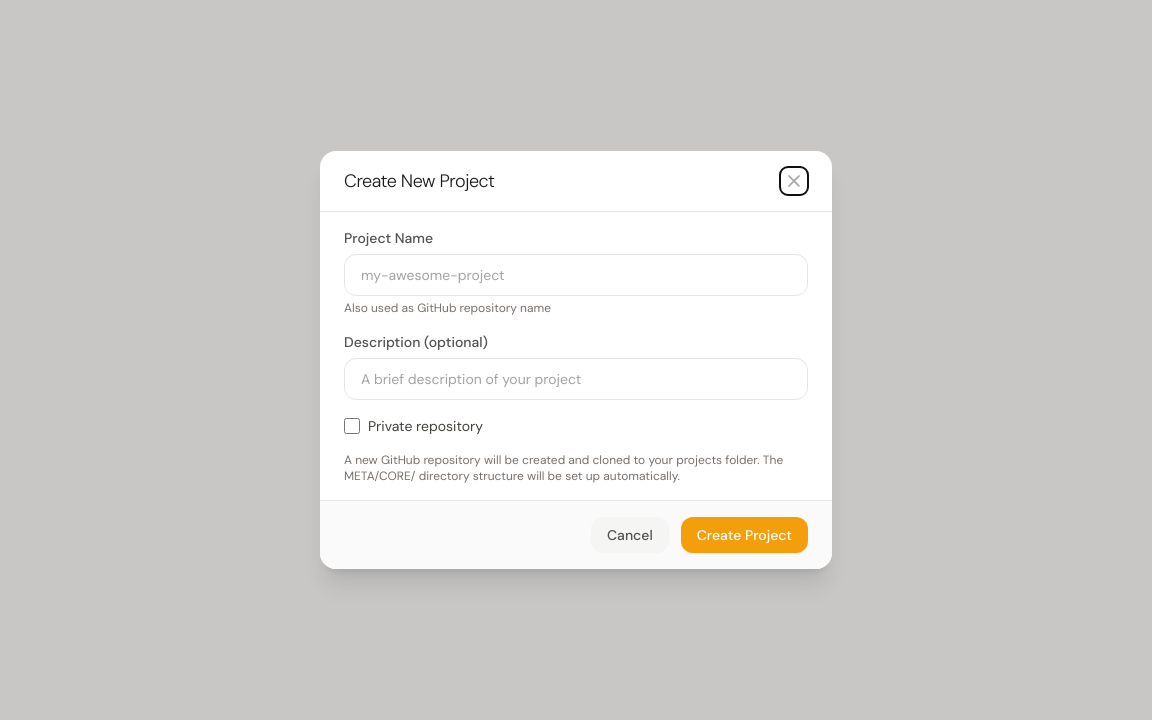
Test case: CreateProjectModal › should show error for invalid project name
Type "-invalid-name" into the field with placeholder "my-awesome-project".
click(576, 275); type("-invalid-name")  # box [344, 254, 808, 296]
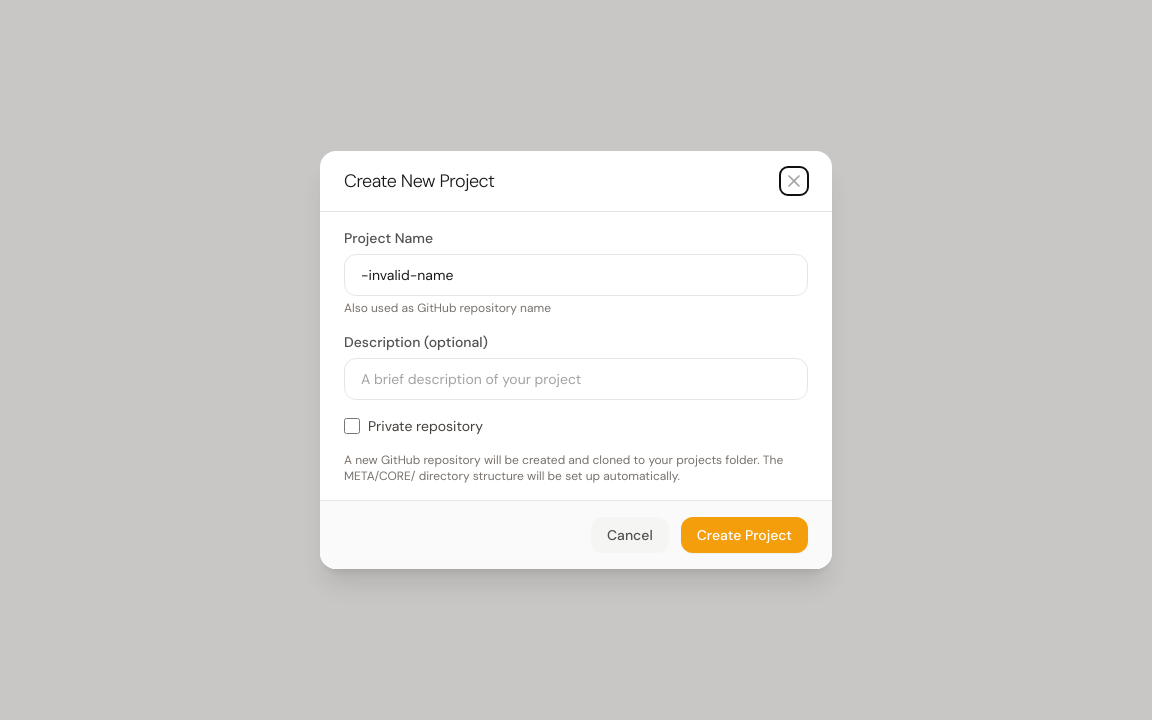
Click the button "Create Project".
click(744, 535)  # box [681, 517, 808, 553]
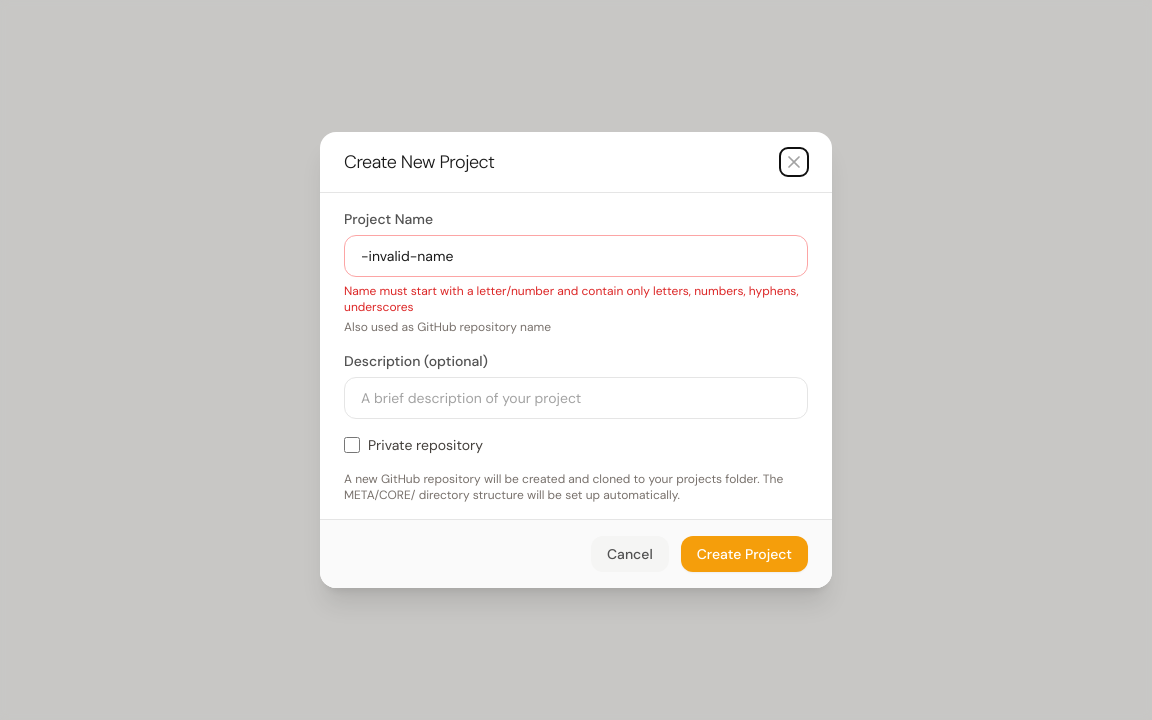
Now the text "Name must start with a letter/number" is shown, box [344, 283, 799, 315]
